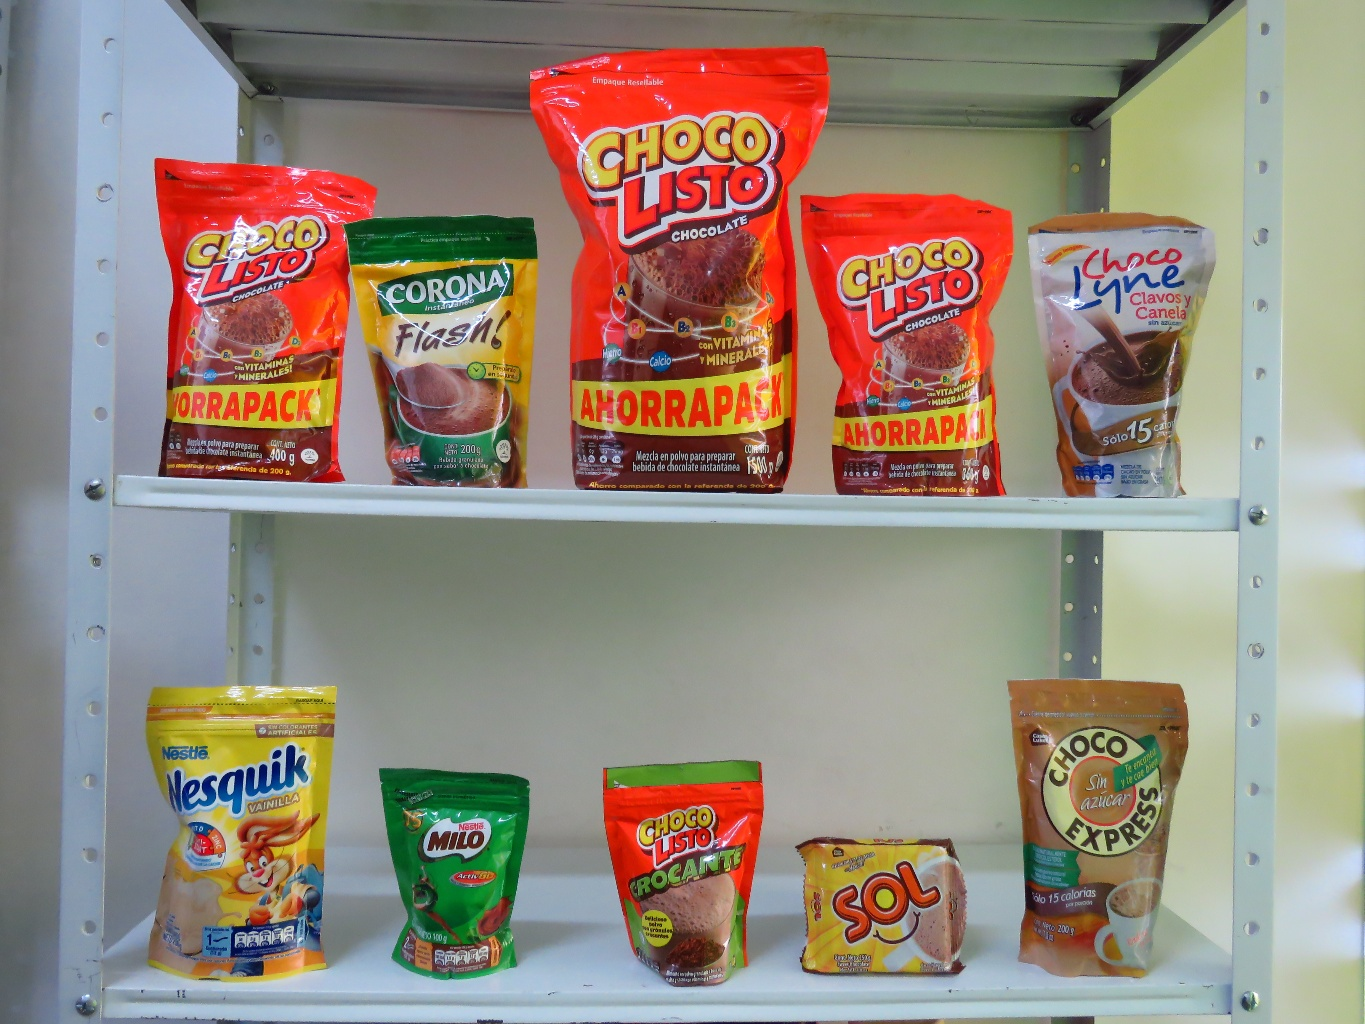COL0170102DYP10000: (607, 768, 763, 983)
COL0170103DYP1,500: (527, 42, 826, 496)
COL0170103DYP36000: (799, 191, 1019, 498)
COL0170103DYP40000: (157, 154, 375, 481)
COL0170203DYP10000: (373, 765, 537, 980)
COL0170306DYP20000: (146, 685, 338, 983)
